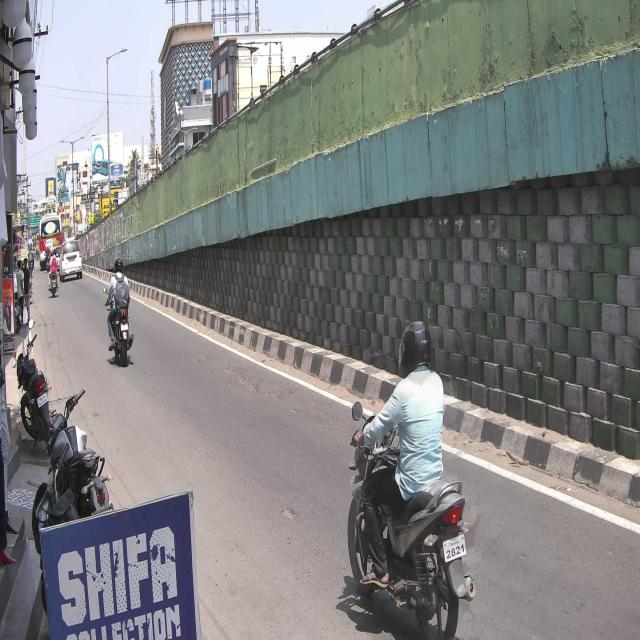single_rider: (348, 318, 477, 640)
